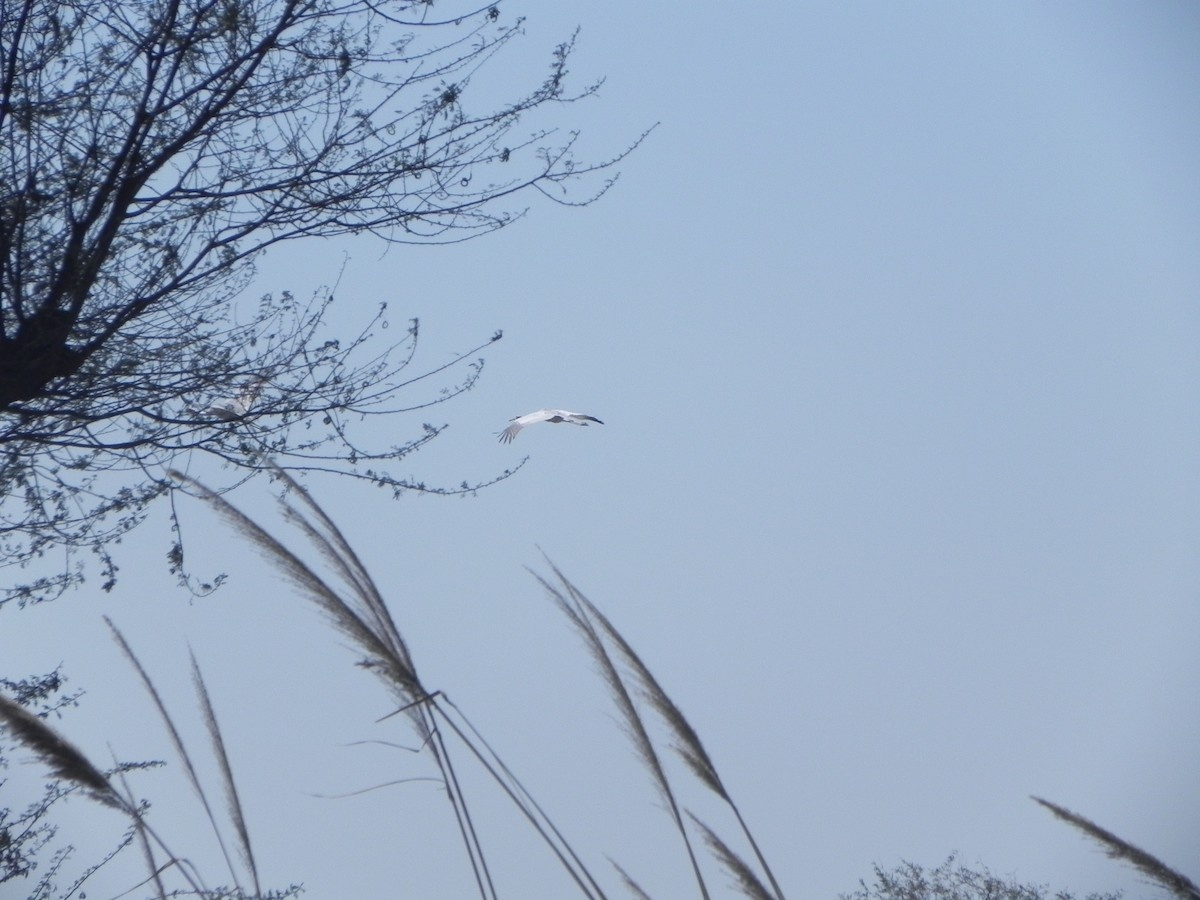crane: (491, 400, 613, 445)
